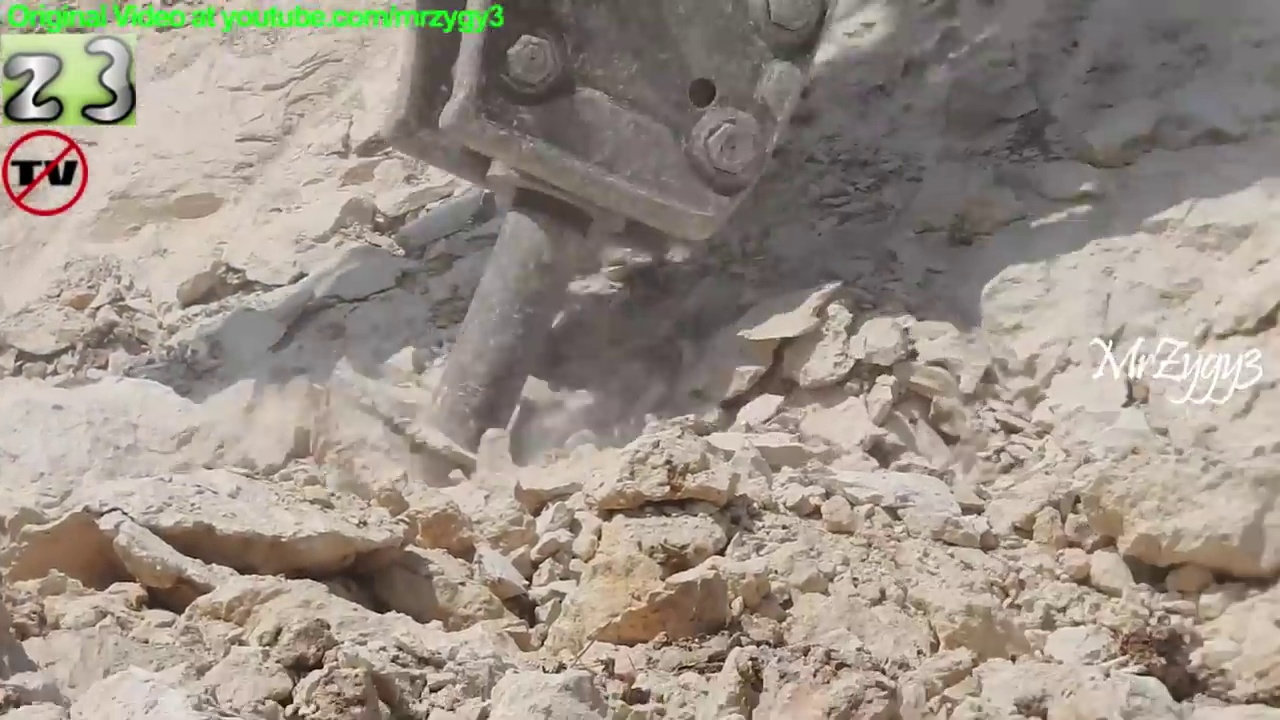excavator: (372, 1, 840, 486)
